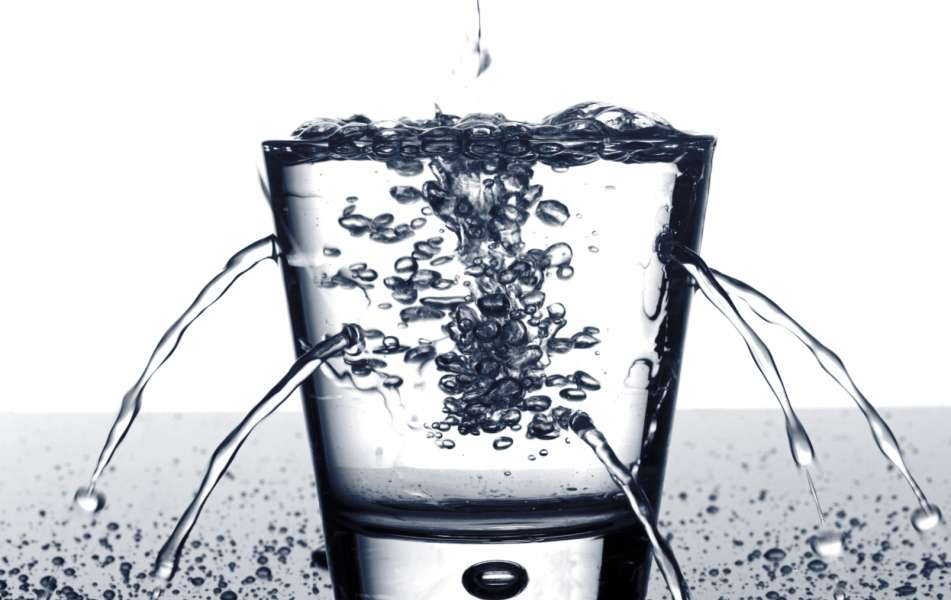glass of water: (301, 114, 677, 567)
